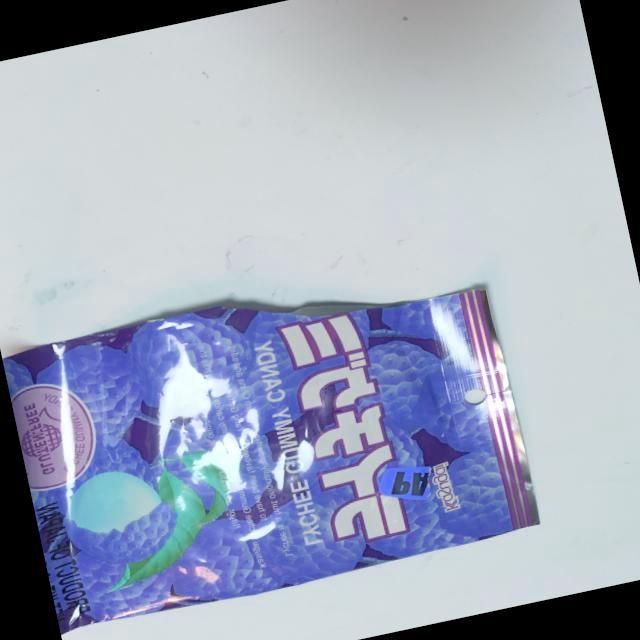plastic: (0, 230, 564, 640)
